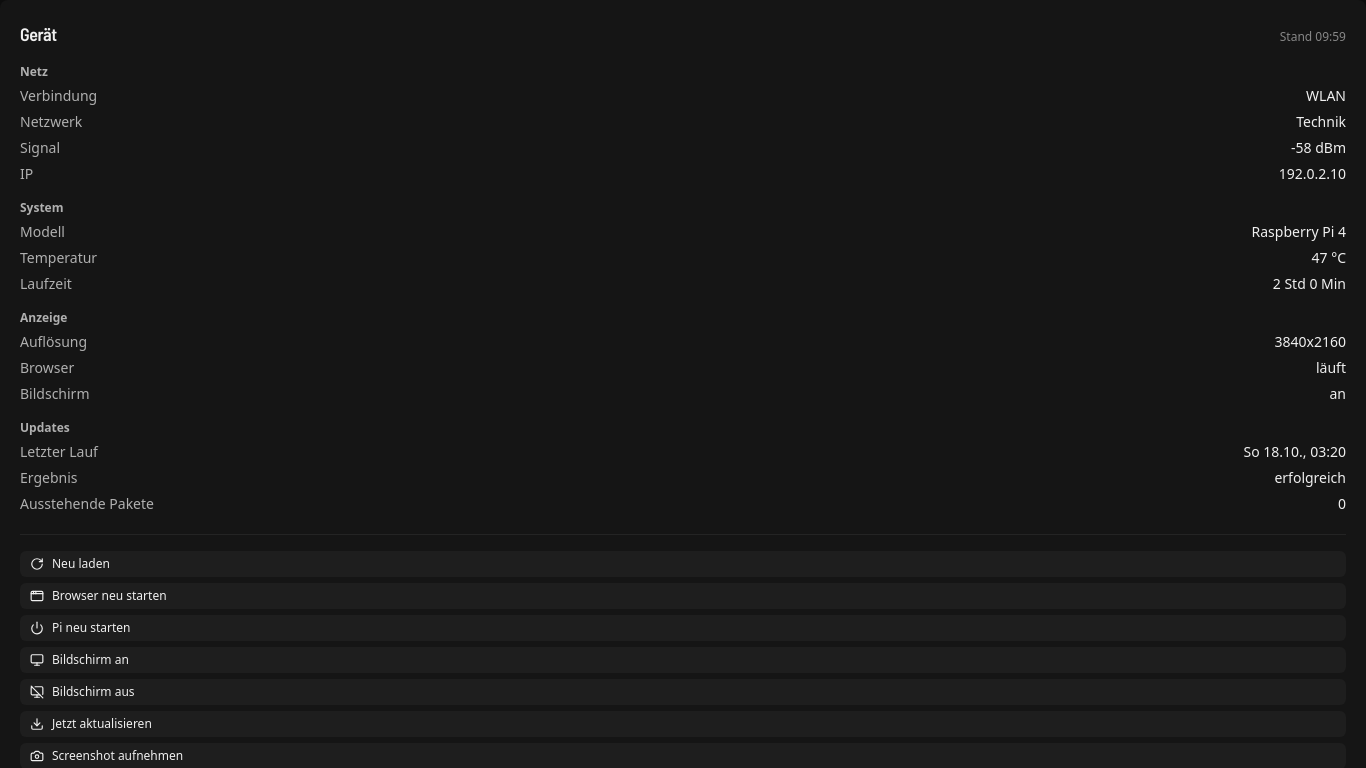
Test: DeviceBox › Update fragt mit der Folge nach
Click the button "Jetzt aktualisieren" at (102,724), box [20,711,1346,737]
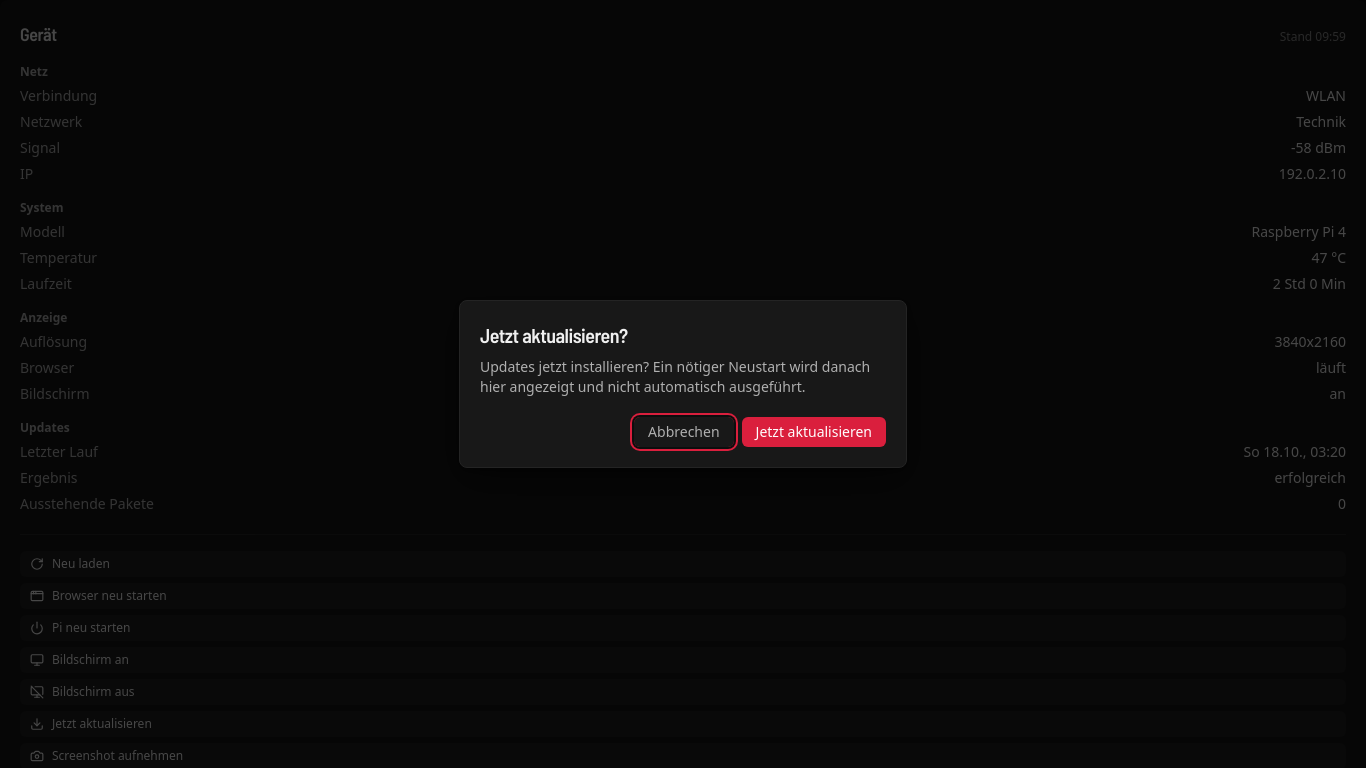
Expected: the dialog shows "Updates jetzt installieren? Ein nötiger Neustart wird danach hier angezeigt und nicht automatisch ausgeführt.", [480,357,870,396]
